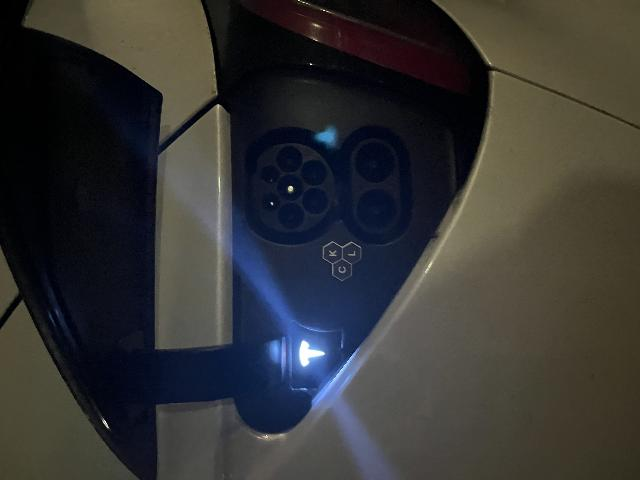inlet: (248, 256, 337, 335)
inlet-above-left: (267, 261, 287, 280)
inlet-above-right: (296, 261, 315, 279)
inlet-below-left: (266, 302, 293, 328)
inlet-below-right: (294, 301, 320, 327)
inlet-circle: (279, 278, 306, 303)
inlet-circle-left: (251, 278, 277, 304)
inlet-circle-right: (307, 276, 335, 302)
inlet-minus: (297, 355, 338, 394)
inlet-plus: (251, 357, 291, 396)
